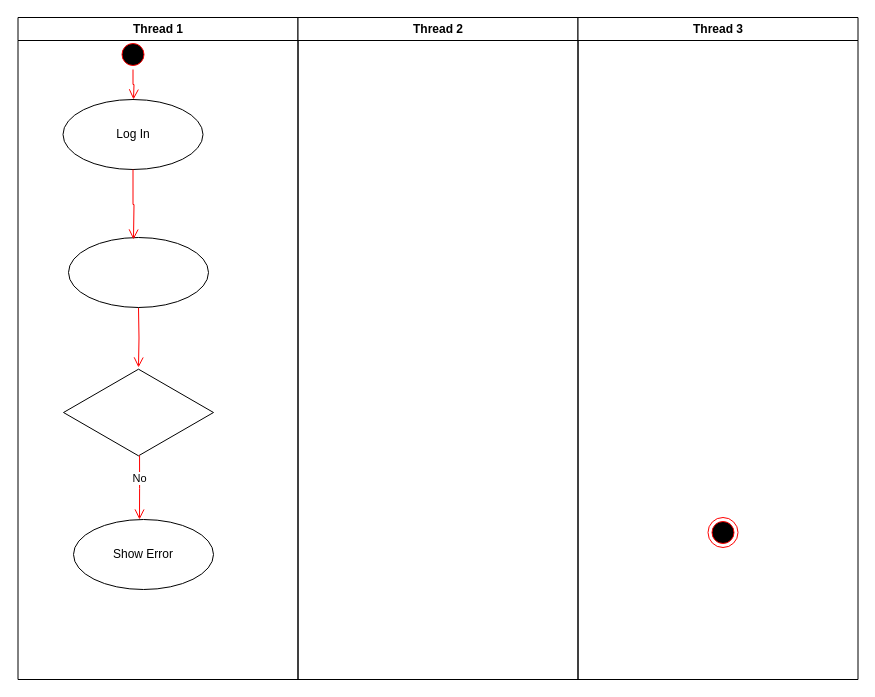
This 875x697 diagram has some shape labels left out. The centre of each missing label's shape, as x and y in pixels:
"Restaurant Exists?" belongs at pixel 138 412.
"Search a Restaurant" belongs at pixel 138 272.
